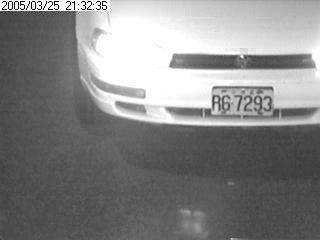plate: (210, 88, 274, 116)
